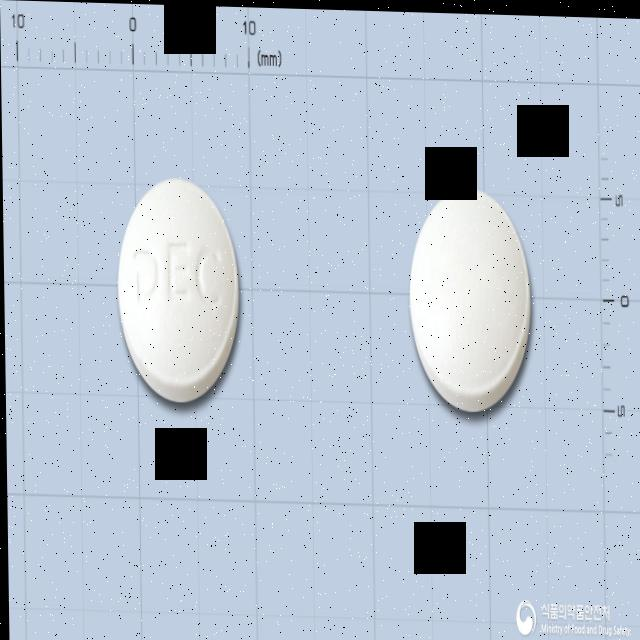Ciprocell: (116, 172, 242, 404), (408, 181, 532, 414)
